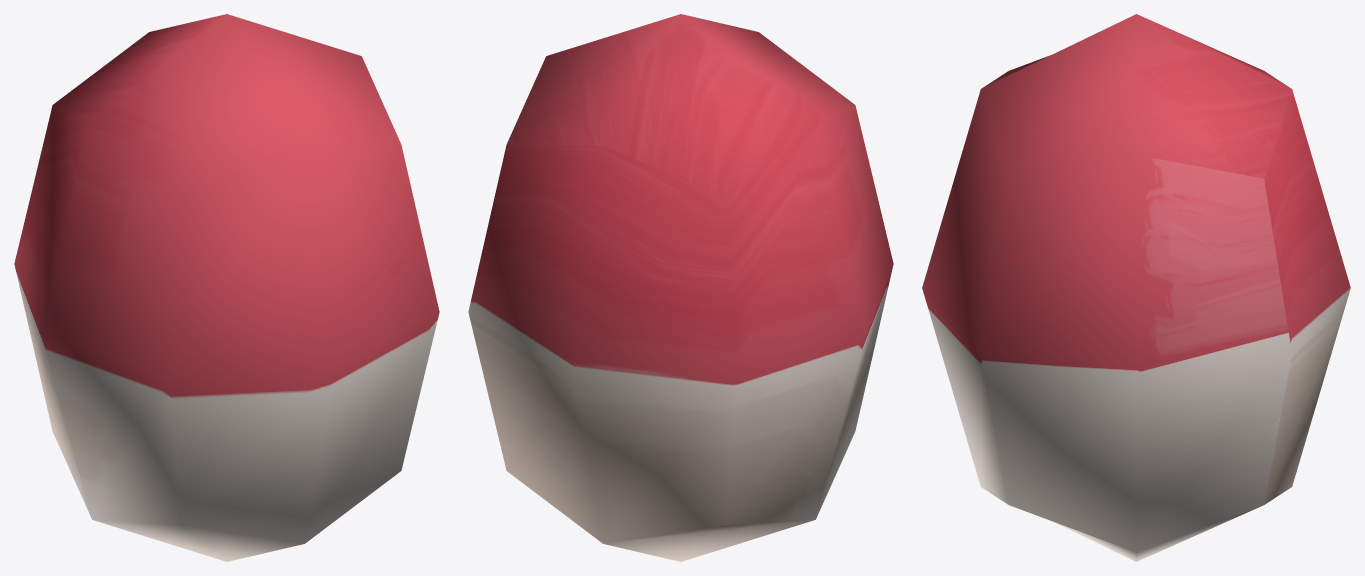
The model's file is SingleBuoy.fbx.
3 views of the same model, side by side, from view 1: azimuth 30°, elevation 25°; view 2: azimuth 150°, elevation 25°; view 3: azimuth 270°, elevation 25° (orthographic).
Parts seen in each view (by area): view 1: Buoy; view 2: Buoy; view 3: Buoy.
Part boxes in pixels (bbox=[...]): Buoy: bbox=[14, 14, 439, 561]; Buoy: bbox=[468, 14, 893, 561]; Buoy: bbox=[922, 14, 1350, 561].
Bounding box in the file's own units: 83.95 × 118 × 83.95.
